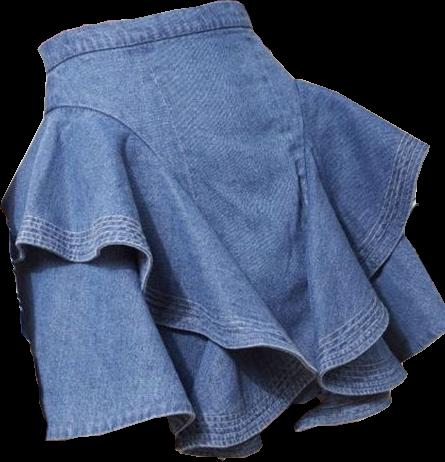Hemline: (10, 238, 312, 446), (319, 143, 444, 394)
Waistline: (44, 76, 317, 374), (35, 0, 244, 52), (44, 24, 253, 75)
